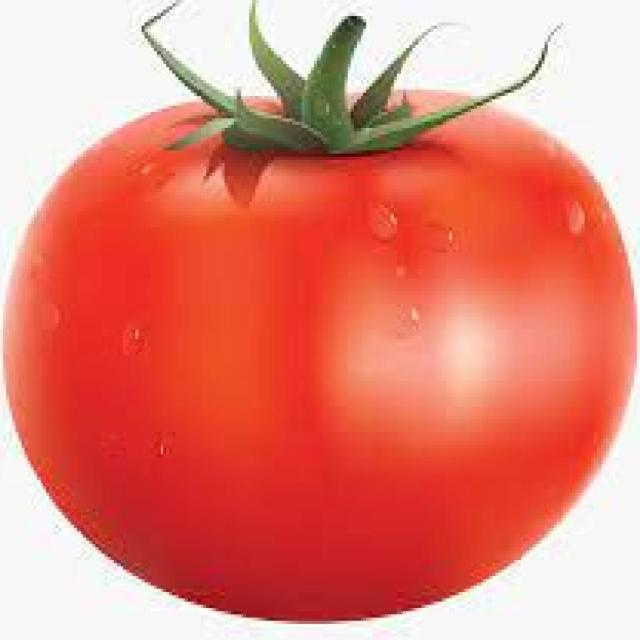Healthy Fruit: (1, 29, 426, 415)
